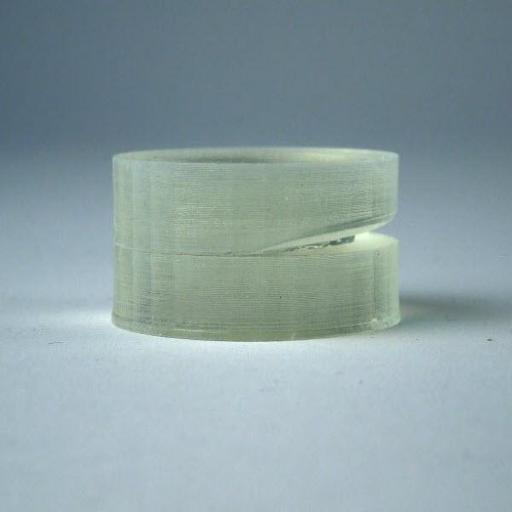cracks: (250, 213, 397, 269)
